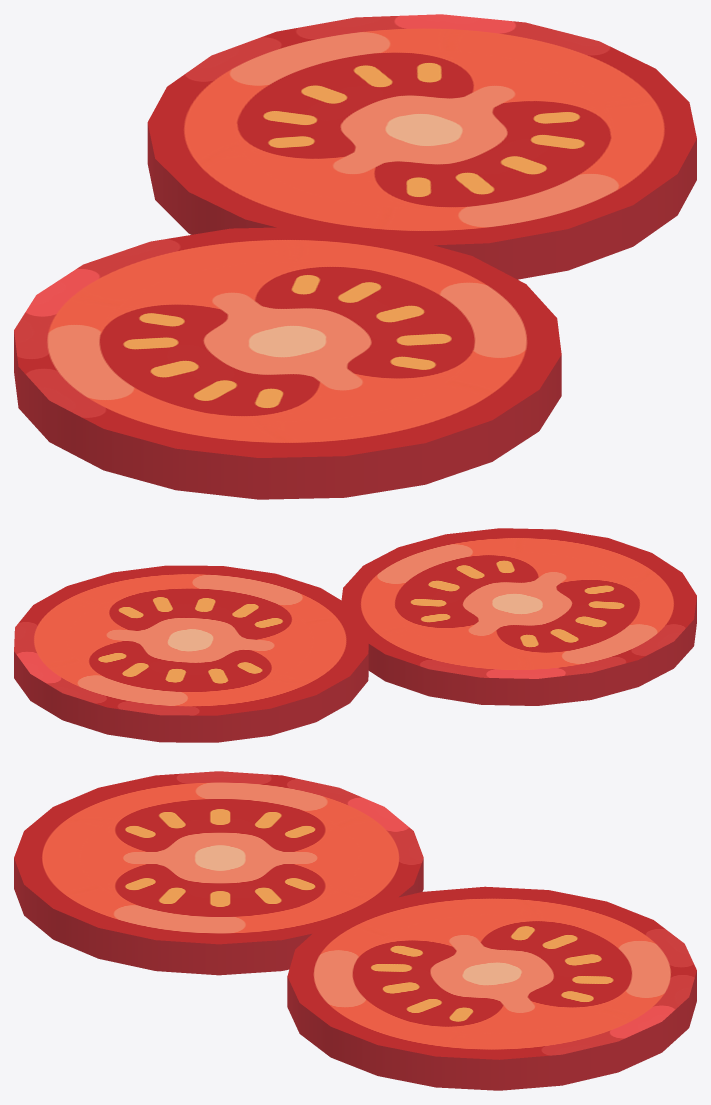
The model's file is tomato.glb.
3 views of the same model, one above another, from view 1: azimuth 30°, elevation 25°; view 2: azimuth 150°, elevation 25°; view 3: azimuth 270°, elevation 25° (orthographic). The views are drawn at different scales.
Parts seen in each view (by area): view 1: Tomato_Slice; view 2: Tomato_Slice; view 3: Tomato_Slice.
Part boxes in pixels (x1,y1,x2,y2): Tomato_Slice: (14,14,696,499); Tomato_Slice: (14,528,696,742); Tomato_Slice: (14,771,696,1090).
Size of the model in its own units: 0.2 by 0.01 by 0.2.
1 material, 1 textured.
